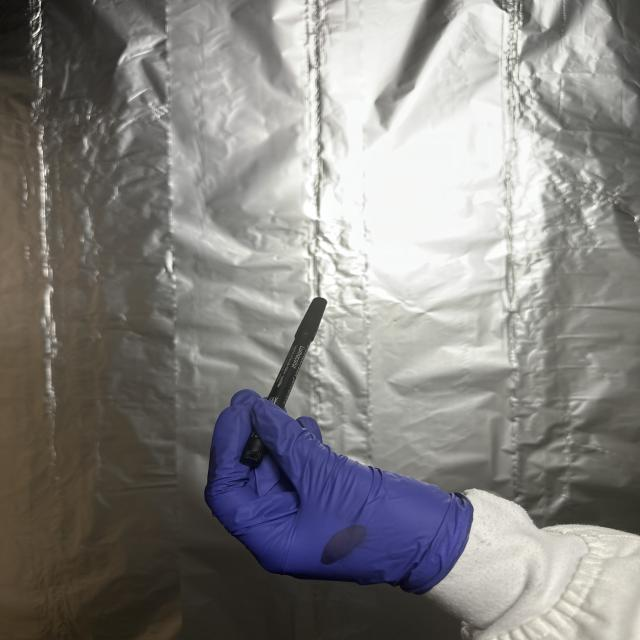gloves_contaminated: (205, 397, 473, 594)
